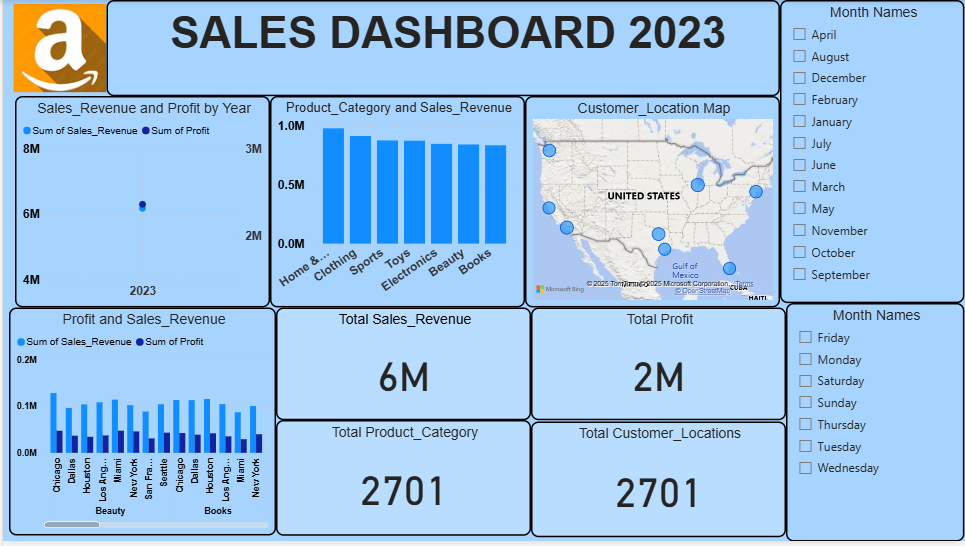

What the dashboard file says about the page in this screenshot:
{"tool":"powerbi","page":{"name":"Page 1","canvas":[1280,720],"ordinal":0},"visuals":[{"type":"lineChart","title":"Sales_Revenue and Profit by Year","fields":{"Category":["Sheet1 (2).Order_Date.Variation.Date Hierarchy.Year","Sheet1 (2).Order_Date.Variation.Date Hierarchy.Quarter","Sheet1 (2).Order_Date.Variation.Date Hierarchy.Month","Sheet1 (2).Order_Date.Variation.Date Hierarchy.Day"],"Y":["Sum(Sheet1 (2).Sales_Revenue)"],"Y2":["Sum(Sheet1 (2).Profit)"]},"box":[16,127.7,339.3,281.4],"z":0},{"type":"columnChart","title":"Product_Category and Sales_Revenue ","fields":{"Category":["Sheet1 (2).Product_Category"],"Y":["Sum(Sheet1 (2).Sales_Revenue)"]},"box":[355.3,127.7,339.3,281.4],"z":1000},{"type":"map","title":"Customer_Location Map","fields":{"Category":["Sheet1 (2).Customer_Location"],"Size":["Sum(Sheet1 (2).Sales_Revenue)"]},"box":[694.6,127.7,339.3,281.4],"z":2000},{"type":"clusteredColumnChart","title":"Profit and Sales_Revenue","fields":{"Category":["Sheet1 (2).Product_Category","Sheet1 (2).Customer_Location"],"Y":["Sum(Sheet1 (2).Sales_Revenue)","Sum(Sheet1 (2).Profit)"]},"box":[8,409.2,355.3,303.4],"z":3000},{"type":"image","box":[0,0,151.7,127.7],"z":4000},{"type":"textbox","title":"AMAZON SALES DASHBOARD 2023","box":[137.7,0,896.1,127.7],"z":5000},{"type":"card","title":"Total Sales_Revenue","fields":{"Values":["Sum(Sheet1 (2).Sales_Revenue)"]},"box":[363.2,409.2,339.3,149.7],"z":6000},{"type":"card","title":"Total Profit","fields":{"Values":["Sum(Sheet1 (2).Profit)"]},"box":[702.5,409.2,339.3,149.7],"z":7000},{"type":"card","title":"Total Product_Category","fields":{"Values":["CountNonNull(Sheet1 (2).Product_Category)"]},"box":[363.2,558.8,339.3,153.7],"z":8000},{"type":"card","title":"Total Customer_Locations","fields":{"Values":["CountNonNull(Sheet1 (2).Customer_Location)"]},"box":[702.5,560.8,339.3,153.7],"z":9000},{"type":"slicer","title":"Month Names","fields":{"Values":["Sheet1 (2).Month Name"]},"box":[1033.9,0,245.5,403.2],"z":10000},{"type":"slicer","title":"Month Names","fields":{"Values":["Sheet1 (2).Day Name"]},"box":[1041.8,403.2,237.5,317.3],"z":11000}]}

Visuals, with their boxes in screenshot pixels (x1, y1, x2, y2), scaled from the page's 1280x720 canvas onto the 965x546 screenshot:
"Sales_Revenue and Profit by Year" lineChart: 12/97/268/310
"Product_Category and Sales_Revenue " columnChart: 268/97/524/310
"Customer_Location Map" map: 524/97/779/310
"Profit and Sales_Revenue" clusteredColumnChart: 6/310/274/540
image: 0/0/114/97
"AMAZON SALES DASHBOARD 2023" textbox: 104/0/779/97
"Total Sales_Revenue" card: 274/310/530/424
"Total Profit" card: 530/310/785/424
"Total Product_Category" card: 274/424/530/540
"Total Customer_Locations" card: 530/425/785/542
"Month Names" slicer: 779/0/964/306
"Month Names" slicer: 785/306/964/545
